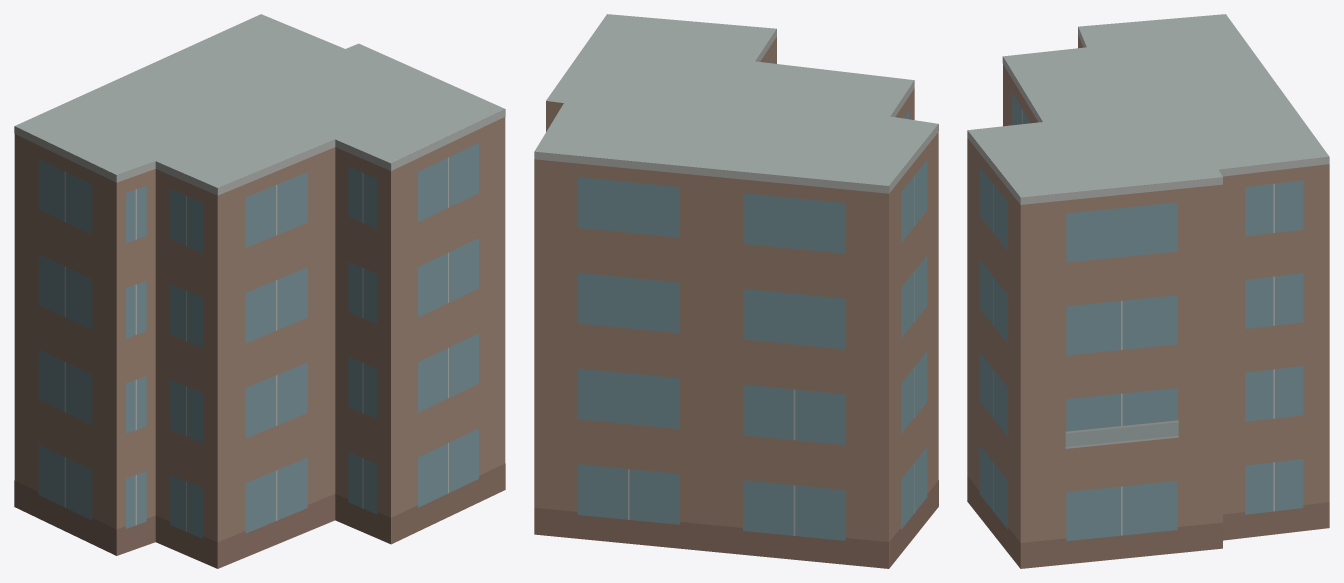
The model's file is survey-upis-32650865.glb.
The picture shows the model from 3 angles, left to right: view 1: azimuth 30°, elevation 25°; view 2: azimuth 150°, elevation 25°; view 3: azimuth 270°, elevation 25°; orthographic projection. The views are drawn at different scales.
Visible parts, largest first — view 1: survey-upis-32650865.tmp; view 2: survey-upis-32650865.tmp; view 3: survey-upis-32650865.tmp.
Part boxes in pixels (bbox=[...]): survey-upis-32650865.tmp: bbox=[14, 14, 505, 568]; survey-upis-32650865.tmp: bbox=[534, 14, 938, 568]; survey-upis-32650865.tmp: bbox=[967, 14, 1329, 568].
Size of the model in its own units: 12.94 by 12.2 by 10.79.
